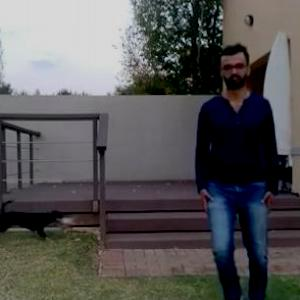follow: (182, 36, 280, 299)
